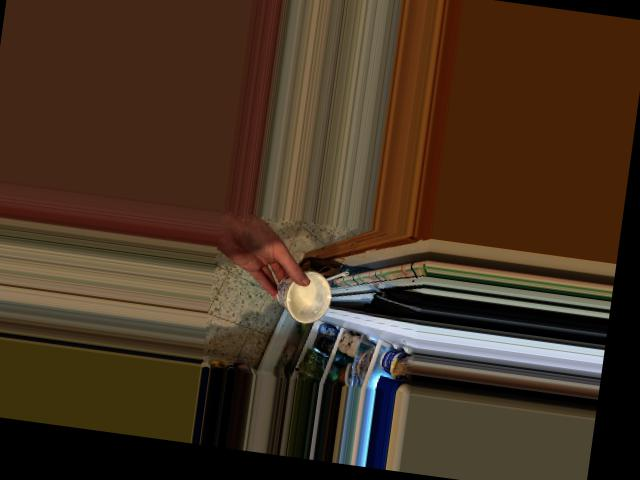cotage: (270, 262, 334, 316)
